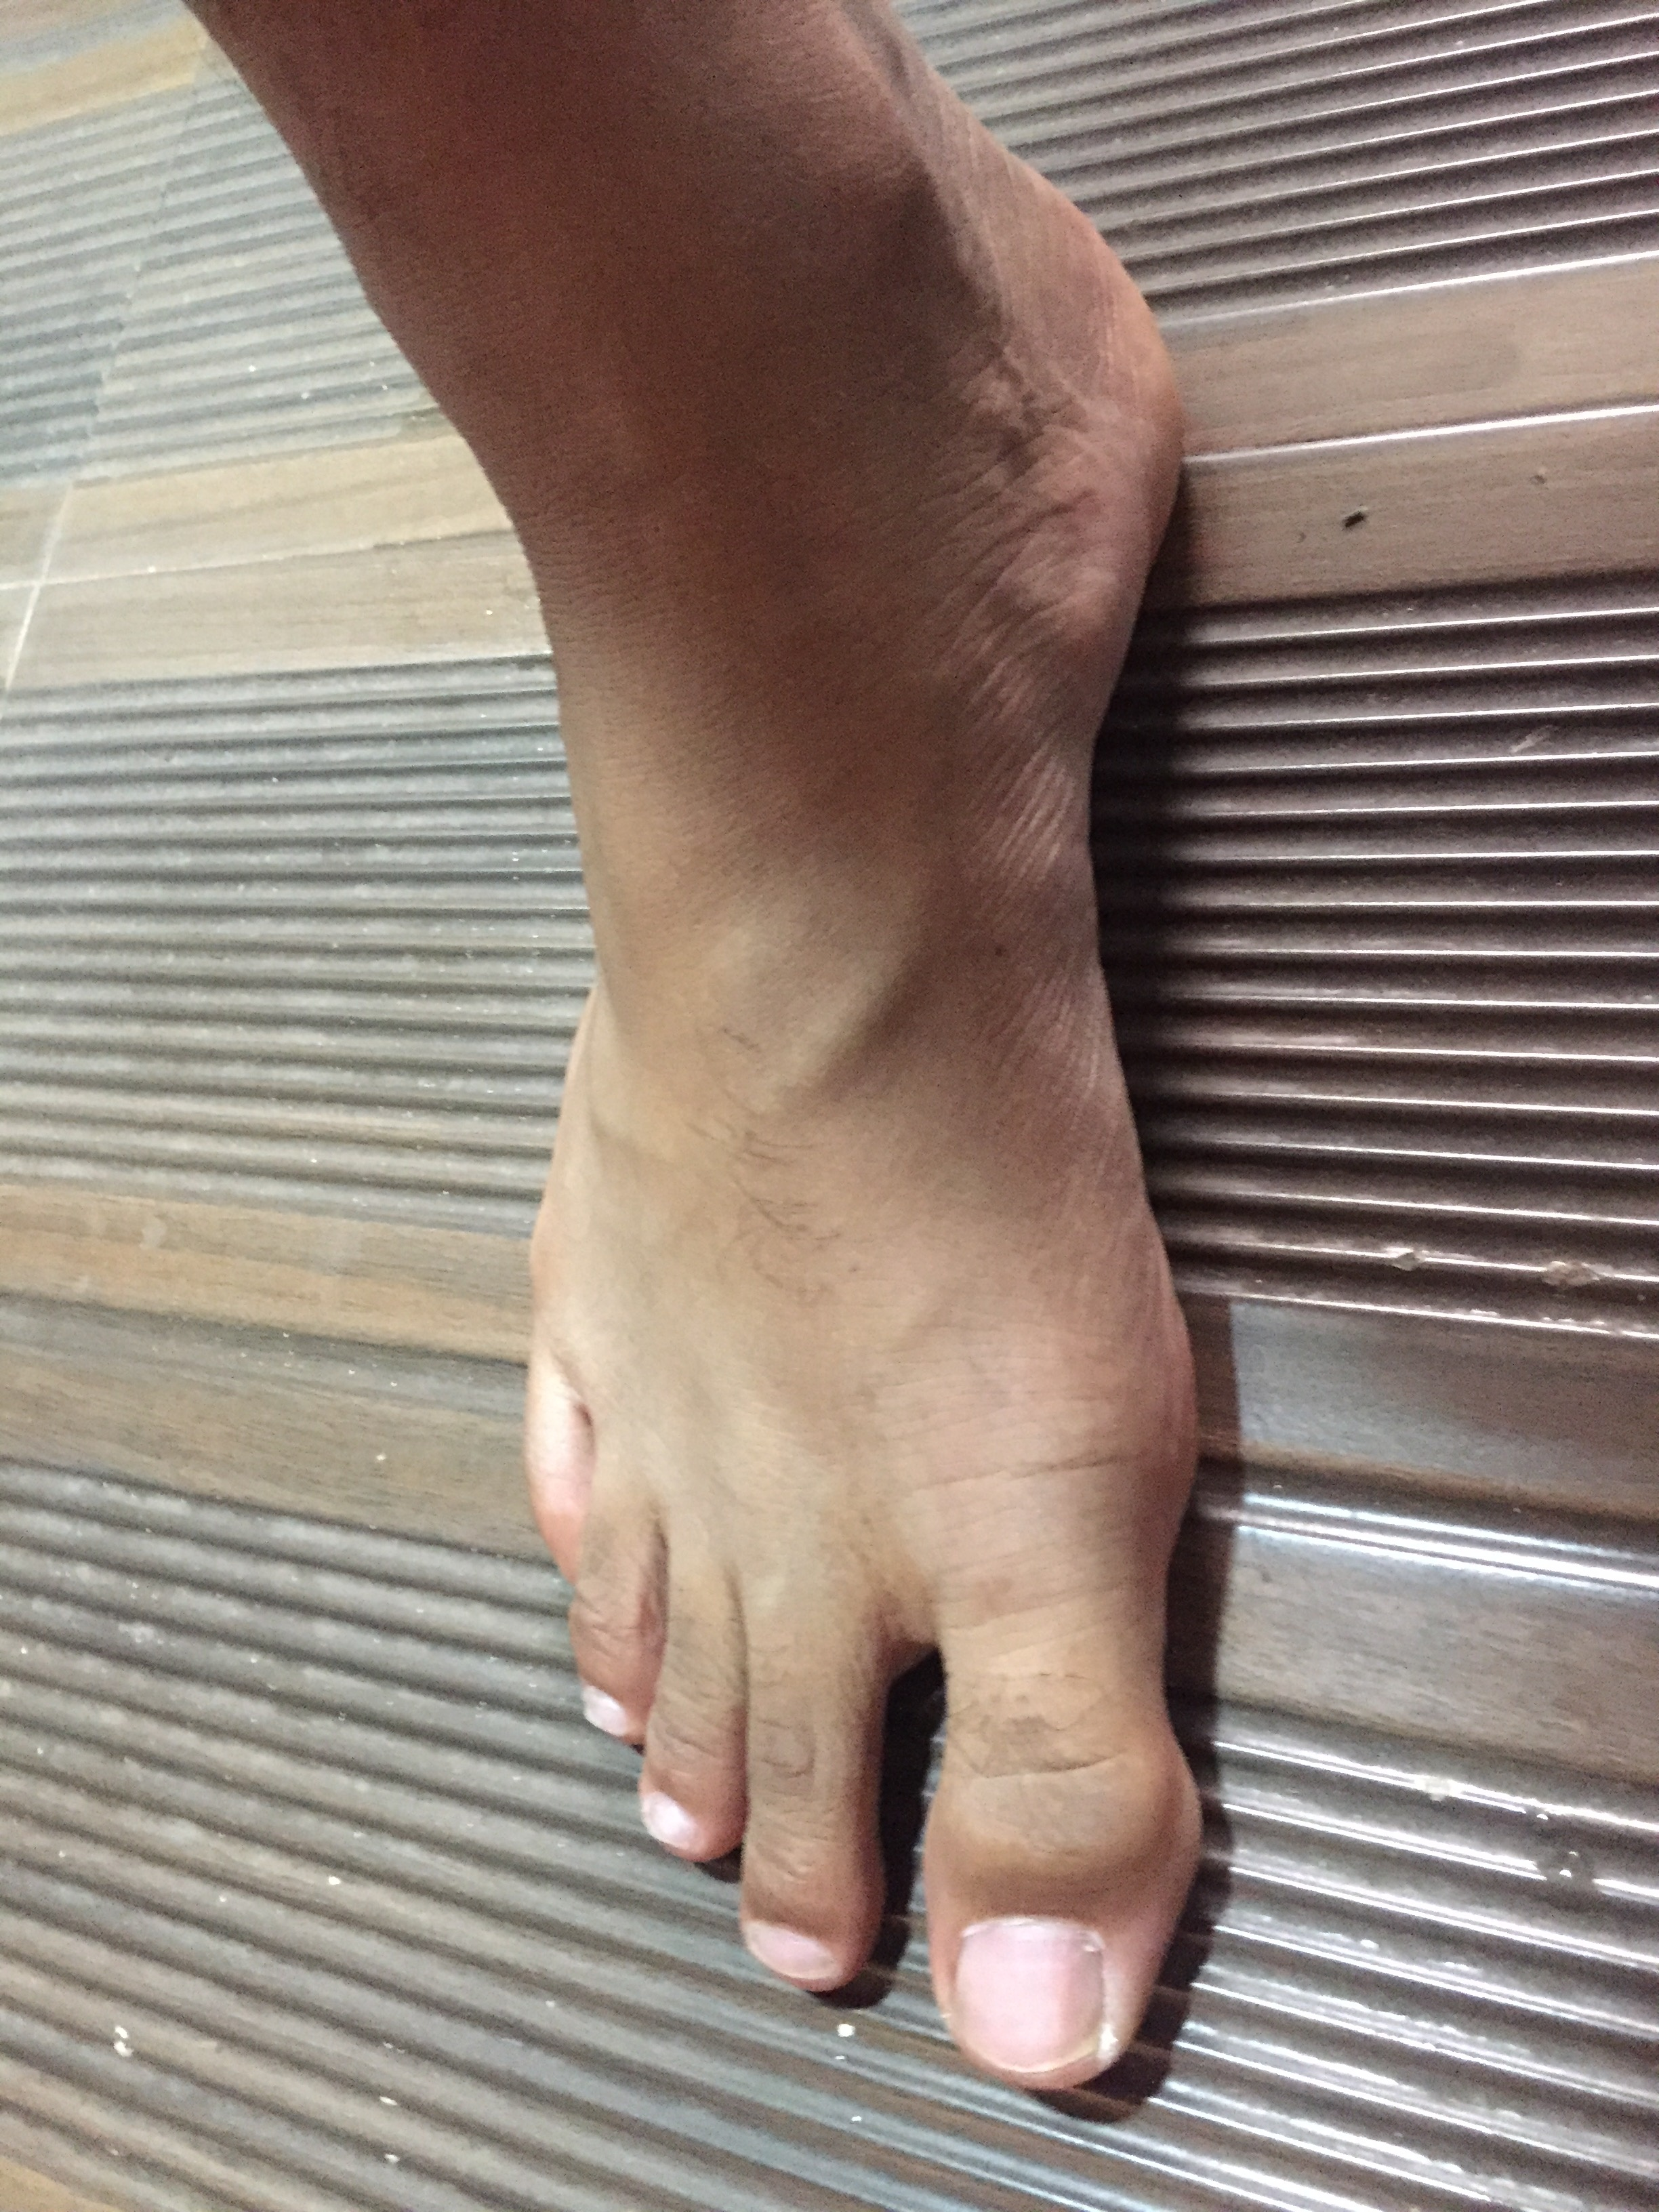feet: (254, 80, 1248, 2114)
